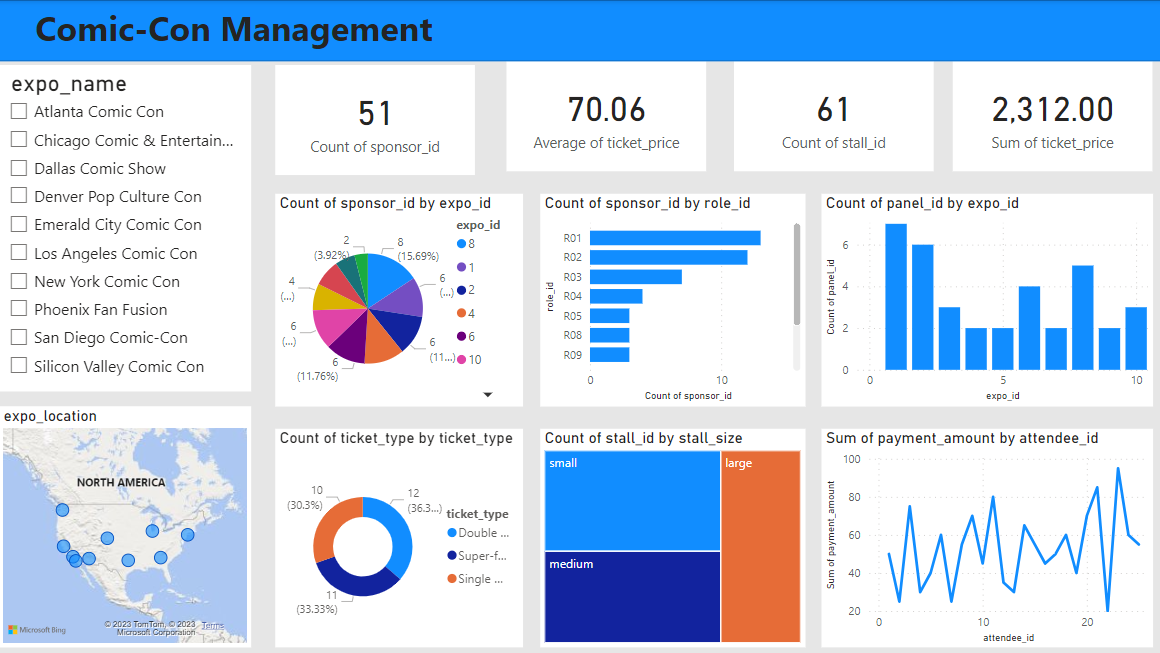

What the dashboard file says about the page in this screenshot:
{"tool":"powerbi","page":{"name":"Page 1","canvas":[1280,720],"ordinal":0},"visuals":[{"type":"map","fields":{"Category":["expo.expo_location"]},"box":[0,446,277.2,264.8],"z":0},{"type":"treemap","fields":{"Group":["stall.stall_size"],"Values":["CountNonNull(stall.stall_id)"]},"box":[594.2,470.7,290.9,240.1],"z":1000},{"type":"pieChart","fields":{"Category":["sponsor.expo_id"],"Y":["CountNonNull(sponsor.sponsor_id)"]},"box":[303.3,212.7,271.7,233.3],"z":2000},{"type":"slicer","fields":{"Values":["expo.expo_name"]},"box":[0,71.4,277.2,358.1],"z":3000},{"type":"card","fields":{"Values":["Count(sponsor.sponsor_id)"]},"box":[303.3,71.4,219.6,120.8],"z":4000},{"type":"card","fields":{"Values":["Sum(ticket.ticket_price)"]},"box":[1047,67.2,219.6,120.8],"z":5000},{"type":"card","fields":{"Values":["Count(stall.stall_id)"]},"box":[806.9,67.2,219.6,120.8],"z":6000},{"type":"card","fields":{"Values":["Avg(ticket.ticket_price)"]},"box":[557.1,67.2,219.6,120.8],"z":7000},{"type":"shape","box":[0,0,1280.3,67.2],"z":8000},{"type":"textbox","box":[0,0,516,71.4],"z":9000},{"type":"clusteredColumnChart","fields":{"Category":["panel.expo_id"],"Y":["CountNonNull(panel.panel_id)"]},"box":[902.9,212.7,363.6,233.3],"z":10000},{"type":"donutChart","fields":{"Category":["ticket.ticket_type"],"Y":["CountNonNull(ticket.ticket_type)"]},"box":[303.3,470.7,271.7,240.1],"z":11000},{"type":"lineChart","fields":{"Category":["payment.attendee_id"],"Y":["Sum(payment.payment_amount)"]},"box":[902.9,470.7,363.6,240.1],"z":12000},{"type":"barChart","fields":{"Category":["sponsor.role_id"],"Y":["CountNonNull(sponsor.sponsor_id)"]},"box":[594.2,212.7,290.9,233.3],"z":13000}]}

Visuals, with their boxes in screenshot pixels (x1, y1, x2, y2), scaled from the page's 1280x720 canvas onto the 1160x653 screenshot:
map - expo.expo_location: 0/404/251/645
treemap - stall.stall_size x CountNonNull(stall.stall_id): 538/427/802/645
pieChart - sponsor.expo_id x CountNonNull(sponsor.sponsor_id): 275/193/521/404
slicer - expo.expo_name: 0/65/251/390
card - Count(sponsor.sponsor_id): 275/65/474/174
card - Sum(ticket.ticket_price): 949/61/1148/171
card - Count(stall.stall_id): 731/61/930/171
card - Avg(ticket.ticket_price): 505/61/704/171
shape: 0/0/1159/61
textbox: 0/0/468/65
clusteredColumnChart - panel.expo_id x CountNonNull(panel.panel_id): 818/193/1148/404
donutChart - ticket.ticket_type x CountNonNull(ticket.ticket_type): 275/427/521/645
lineChart - payment.attendee_id x Sum(payment.payment_amount): 818/427/1148/645
barChart - sponsor.role_id x CountNonNull(sponsor.sponsor_id): 538/193/802/404
